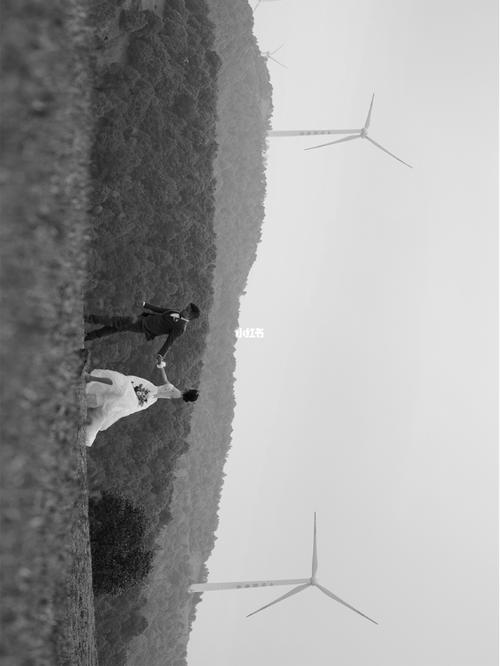buildings: (230, 516, 375, 635)
